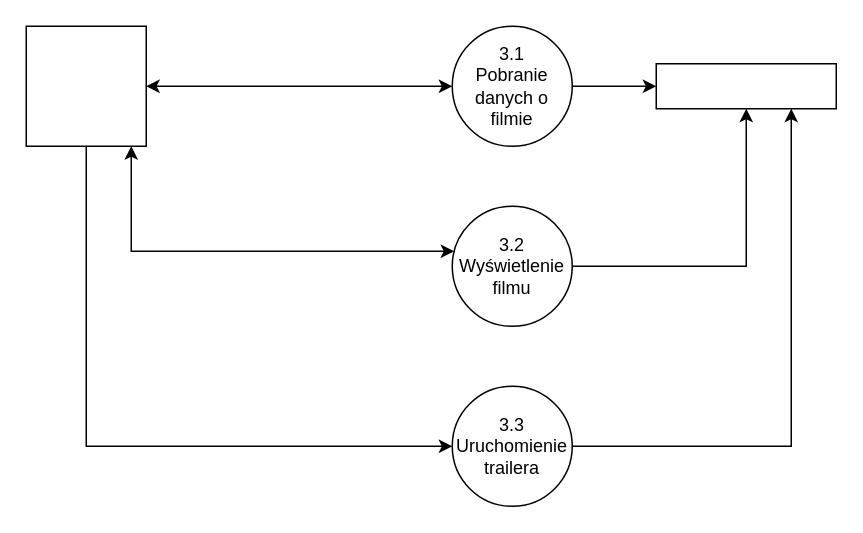
The diagram is 863 pixels wide and 533 high, and some of its shapes have lost their labels. Here are the shapes that lost their labels. From the top down, the centre of each, then its label:
At pixel 85 85: "Klient".
At pixel 745 85: "film".
